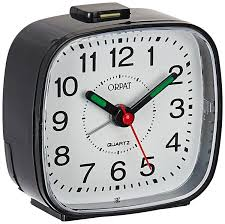alarm_clock: (0, 0, 222, 219), (0, 0, 218, 219), (0, 16, 218, 219)
